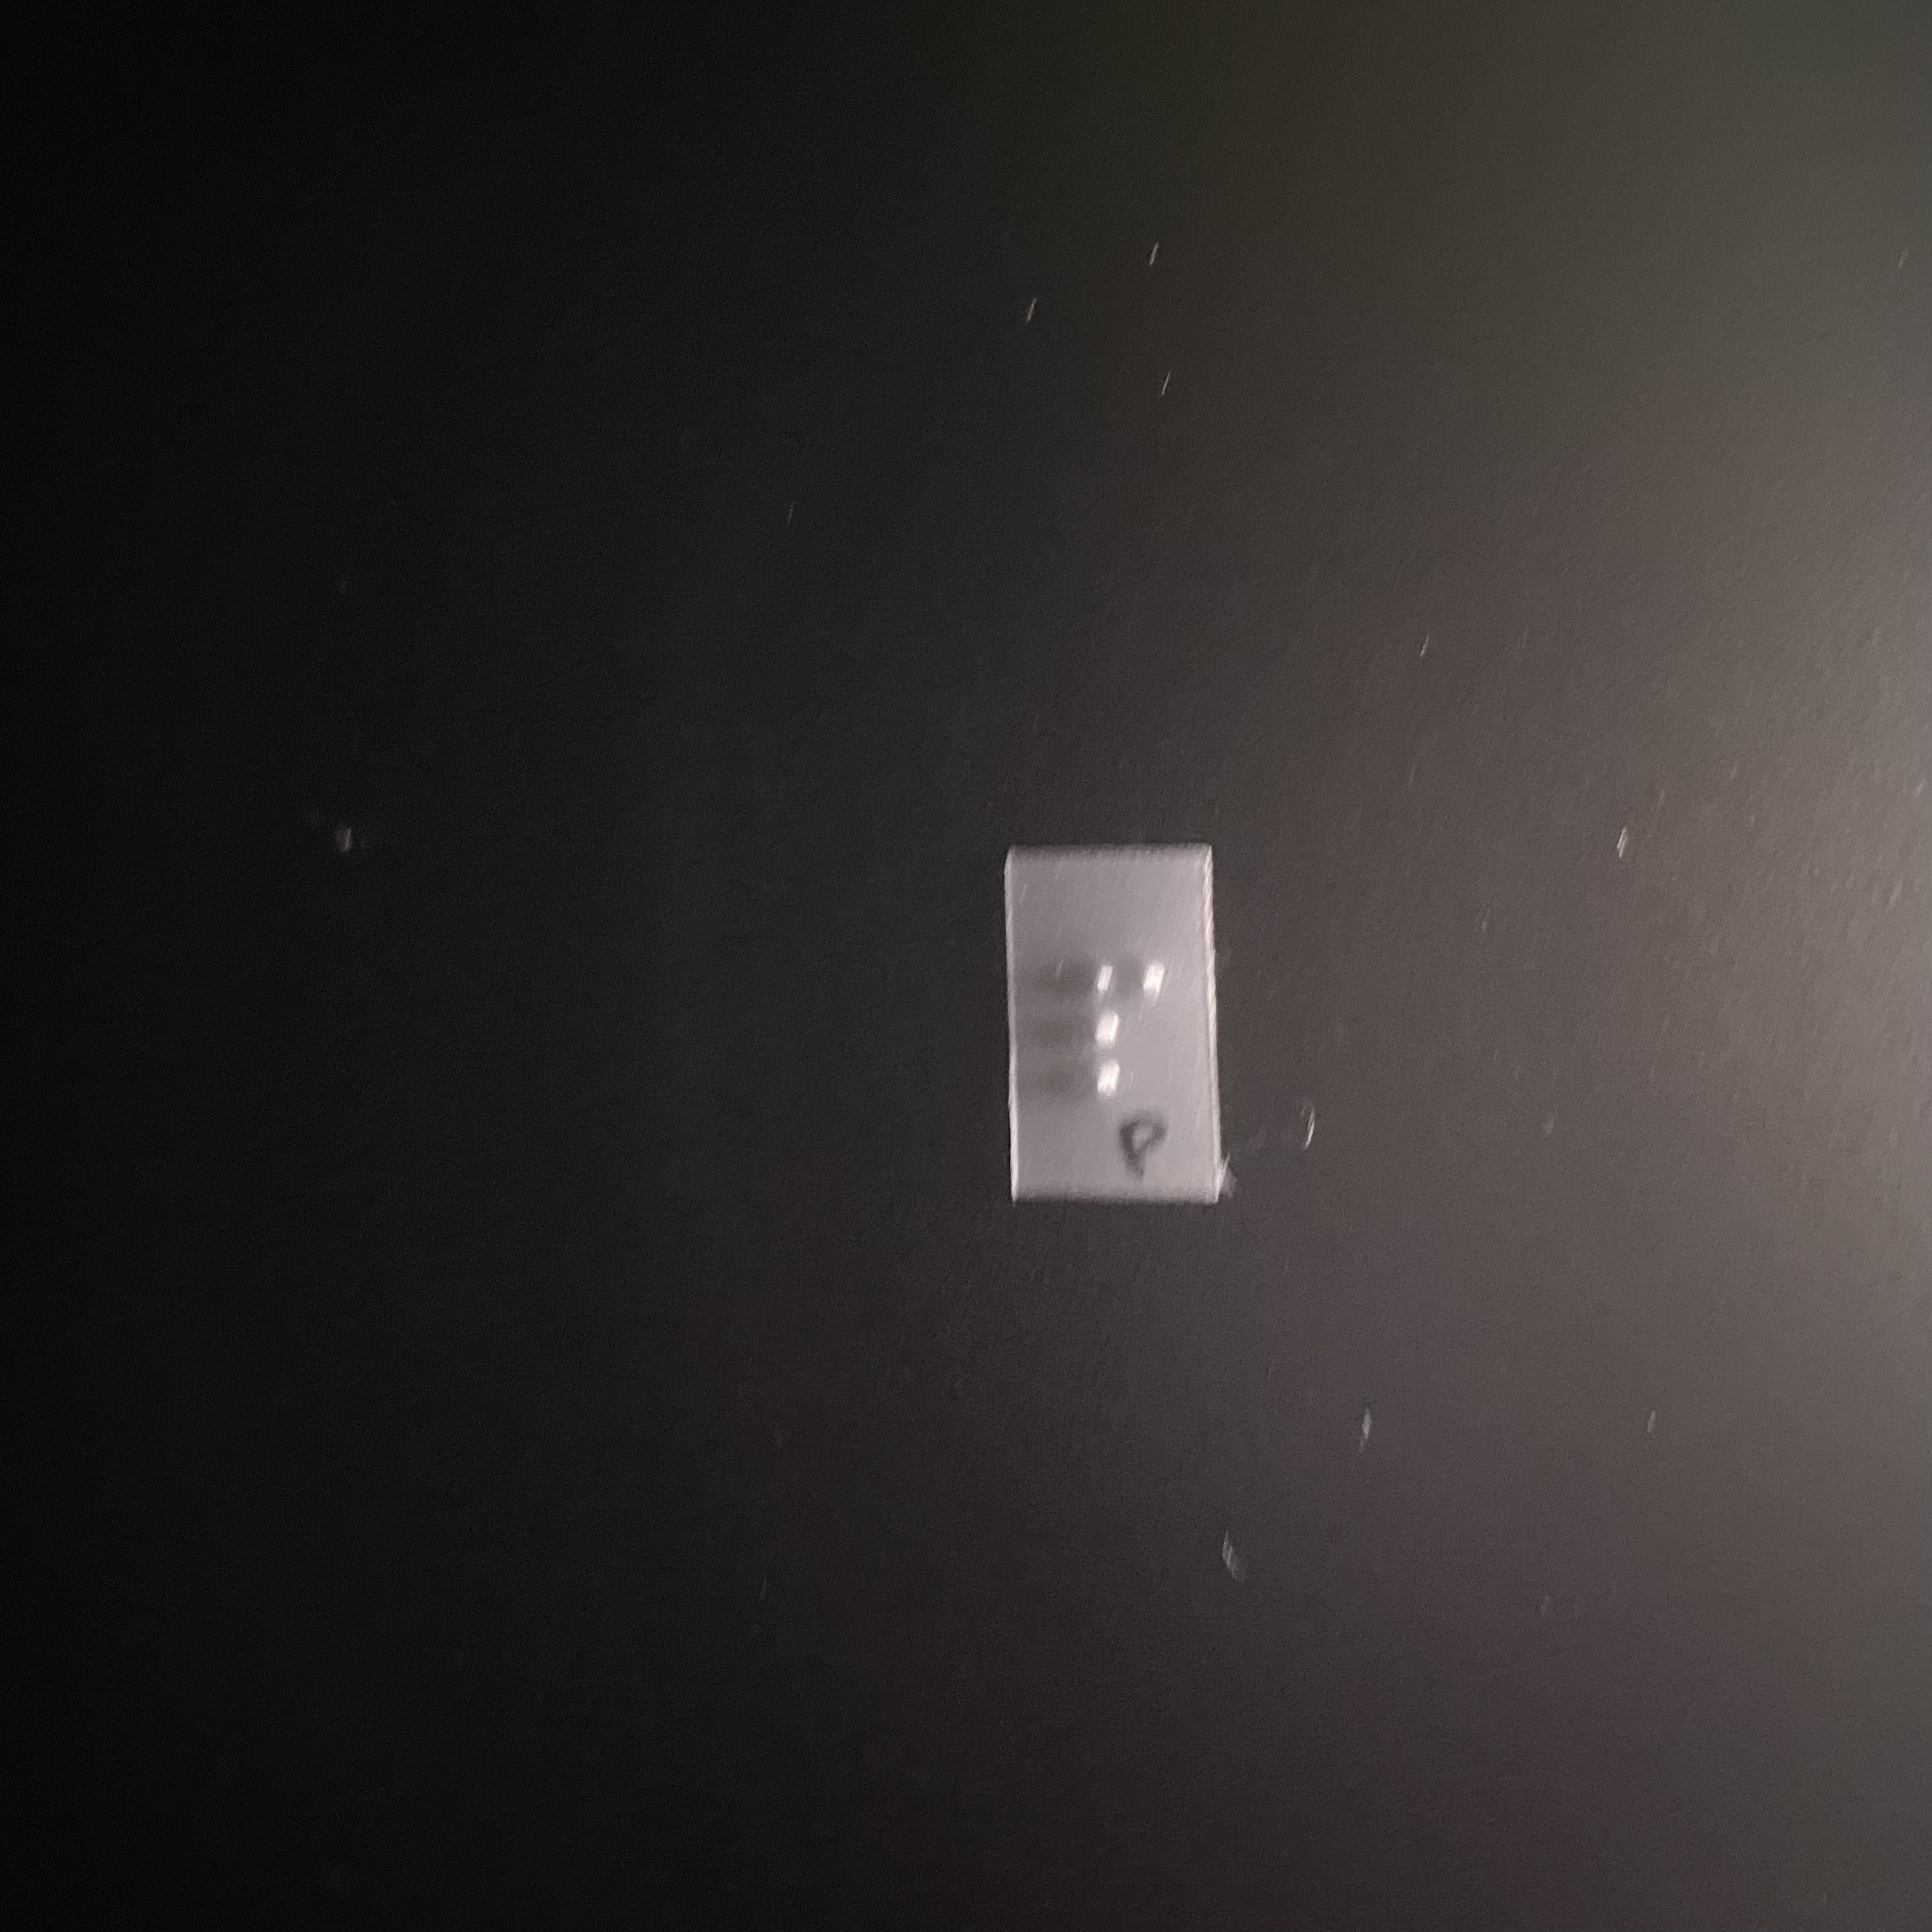p: (1043, 951, 1186, 1119)
